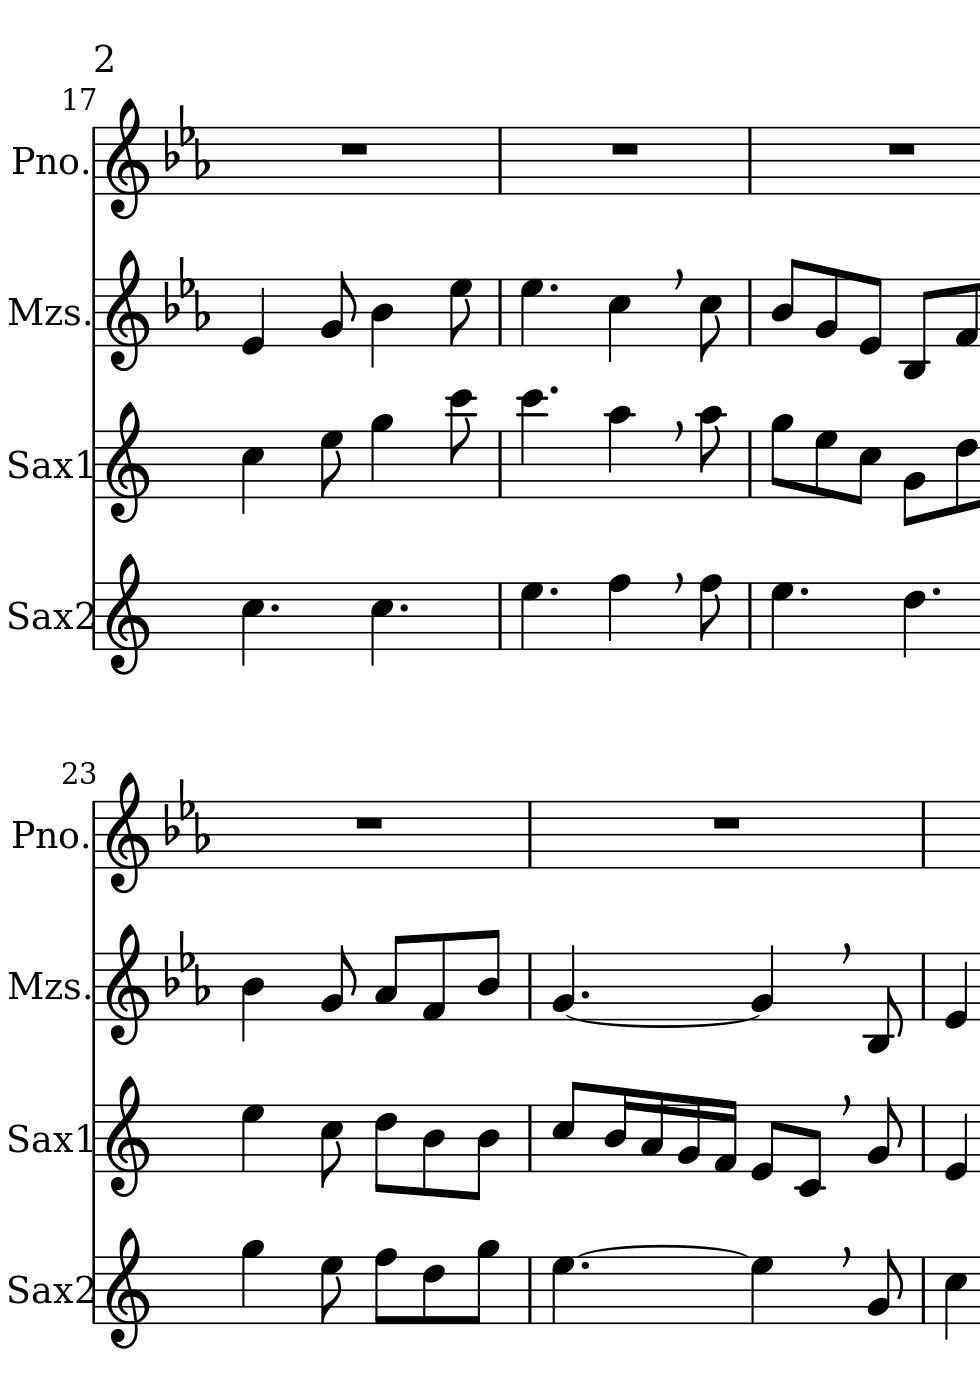1: (62, 86, 77, 115)
16_1: (711, 1096, 738, 1176)
16_2: (675, 1093, 702, 1175)
16_3: (638, 1090, 665, 1174)
16_4: (602, 1085, 633, 1174)
2: (92, 43, 113, 73), (60, 761, 78, 786)
3: (78, 760, 97, 787)
4_0: (240, 277, 266, 358), (942, 950, 968, 1030), (942, 1102, 968, 1181)
4_10: (603, 404, 633, 502)
4_12: (515, 388, 548, 501)
4_2: (750, 943, 775, 1023), (550, 943, 576, 1022)
4_4: (239, 951, 265, 1042), (368, 278, 393, 368)
4_5: (603, 277, 633, 365), (367, 580, 395, 669), (238, 429, 265, 515), (942, 1255, 968, 1343), (239, 581, 265, 668)
4_6: (902, 581, 926, 660)
4_7: (517, 580, 545, 652), (768, 580, 795, 651), (239, 1103, 266, 1174), (748, 1255, 775, 1324), (518, 277, 543, 349), (549, 1255, 575, 1326)
4_8: (603, 573, 632, 652)
4_9: (368, 413, 393, 501), (239, 1238, 264, 1324)
7: (78, 85, 97, 115)
8_-2: (794, 1103, 824, 1198)
8_-3: (864, 951, 904, 1055), (899, 277, 932, 381)
8_0: (748, 1102, 781, 1183), (856, 273, 883, 359)
8_1: (419, 931, 448, 1023), (953, 276, 977, 348)
8_10: (696, 405, 727, 501)
8_12: (447, 389, 476, 501)
8_2: (867, 1247, 904, 1326), (319, 269, 356, 347), (319, 944, 356, 1021), (867, 1096, 903, 1173), (900, 428, 926, 528), (813, 266, 839, 349)
8_3: (373, 934, 407, 1022)
8_4: (465, 1103, 501, 1201), (769, 257, 802, 349), (419, 1103, 445, 1199), (475, 928, 502, 1023)
8_5: (548, 1078, 583, 1175), (851, 429, 882, 507), (317, 1103, 345, 1188), (697, 277, 723, 364)
8_6: (372, 1102, 398, 1195), (951, 429, 978, 516), (420, 1255, 445, 1326)
8_7: (811, 429, 838, 501), (448, 278, 473, 347), (318, 429, 344, 498), (318, 1255, 343, 1324)
8_8: (696, 572, 723, 651), (372, 1247, 397, 1326)
8_9: (463, 1239, 498, 1327), (768, 413, 794, 501)
E_F: (162, 103, 211, 180), (162, 929, 211, 1006), (162, 777, 210, 854), (163, 256, 210, 331)
Gclef: (104, 399, 154, 527), (103, 248, 152, 375), (103, 922, 152, 1049), (103, 1074, 152, 1199), (104, 97, 152, 223), (103, 771, 151, 897), (104, 552, 152, 676), (104, 1226, 151, 1350)
Guit: (10, 817, 81, 854)
Pno: (8, 143, 81, 180)
Rests1: (351, 813, 386, 832), (708, 813, 743, 832), (883, 139, 918, 157), (337, 139, 371, 157), (608, 139, 641, 157)
Sax: (2, 445, 77, 489), (3, 1118, 76, 1161), (3, 596, 76, 637), (3, 1269, 77, 1310)
Single_barline: (914, 1257, 931, 1323), (491, 128, 508, 193), (491, 432, 508, 496), (521, 1106, 538, 1171), (522, 954, 538, 1020), (492, 280, 508, 345), (742, 584, 758, 649), (522, 1258, 538, 1322), (88, 1105, 103, 1174), (492, 584, 508, 648), (742, 127, 757, 195), (742, 278, 757, 345), (522, 802, 537, 869), (742, 432, 757, 497), (915, 1105, 930, 1170), (89, 431, 103, 499), (87, 801, 101, 870), (87, 128, 101, 196), (87, 279, 101, 347), (87, 953, 101, 1021), (89, 1257, 103, 1324), (916, 802, 930, 867), (90, 582, 103, 651), (916, 954, 930, 1018)
dot: (929, 584, 943, 600), (546, 280, 560, 295), (547, 383, 561, 398), (266, 601, 281, 615), (396, 601, 410, 615), (577, 1259, 591, 1273), (797, 585, 809, 599), (578, 988, 591, 1002), (547, 584, 559, 598)
